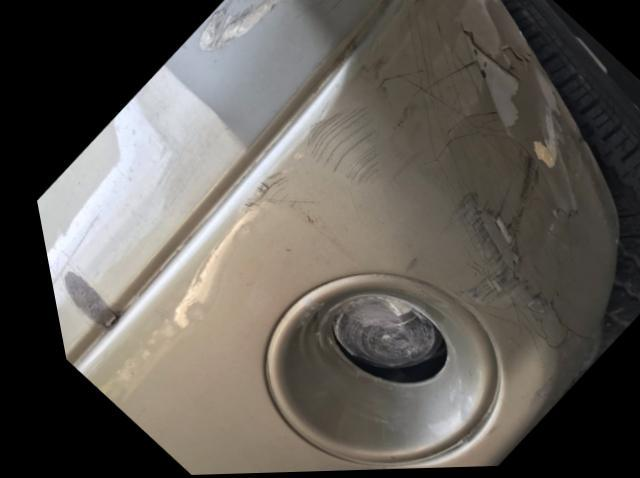dent: (488, 311, 544, 401)
dislocated part: (319, 300, 433, 388)
scratch: (229, 0, 586, 344), (195, 0, 339, 58)
